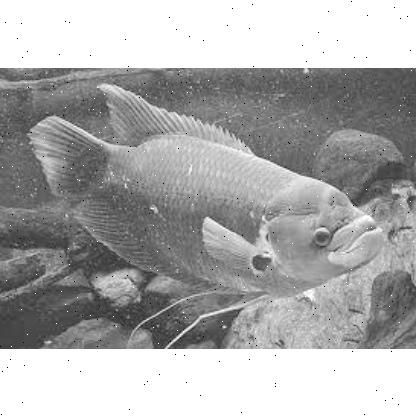gurame: (35, 90, 384, 332)
